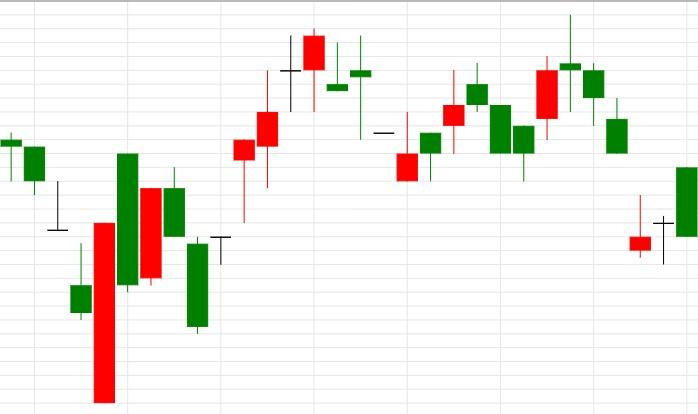evening_star_fall: (489, 15, 605, 182)
hanging_man_fall: (186, 139, 256, 334)
inverse_hammer_rise: (558, 14, 652, 257)
